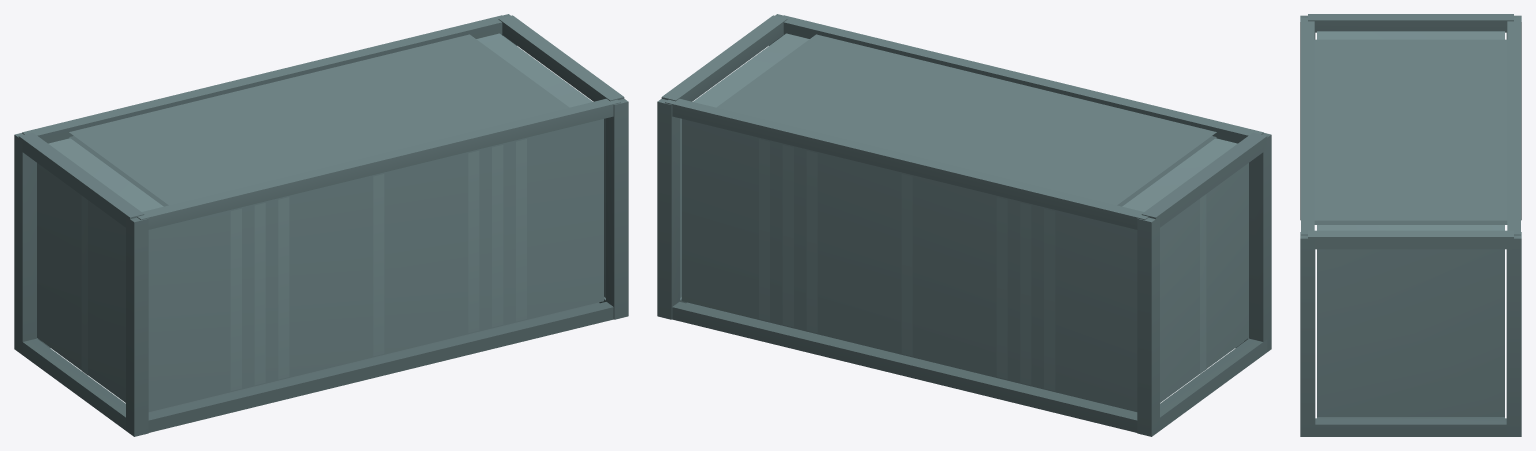
Rendered from mil_container_teal.lod.glb.
3 views of the same model, side by side, from view 1: azimuth 30°, elevation 25°; view 2: azimuth 150°, elevation 25°; view 3: azimuth 270°, elevation 25° (orthographic). The views are drawn at different scales.
Visible parts, largest first — view 1: mil_container_teal; view 2: mil_container_teal; view 3: mil_container_teal.
Boxes of the visible parts, left/top/right/bottom form: mil_container_teal: left=14, top=14, right=628, bottom=436; mil_container_teal: left=657, top=14, right=1271, bottom=436; mil_container_teal: left=1300, top=14, right=1521, bottom=436.
Size of the model in its own units: 6.24 by 2.61 by 2.62.
